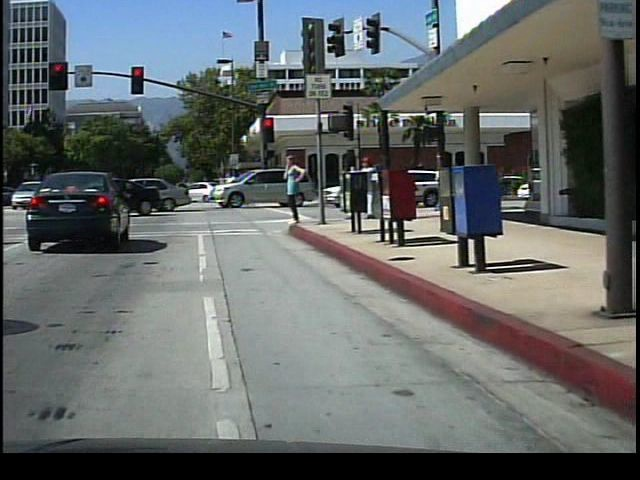person: (283, 148, 312, 226), (361, 151, 385, 223), (341, 150, 364, 219)
